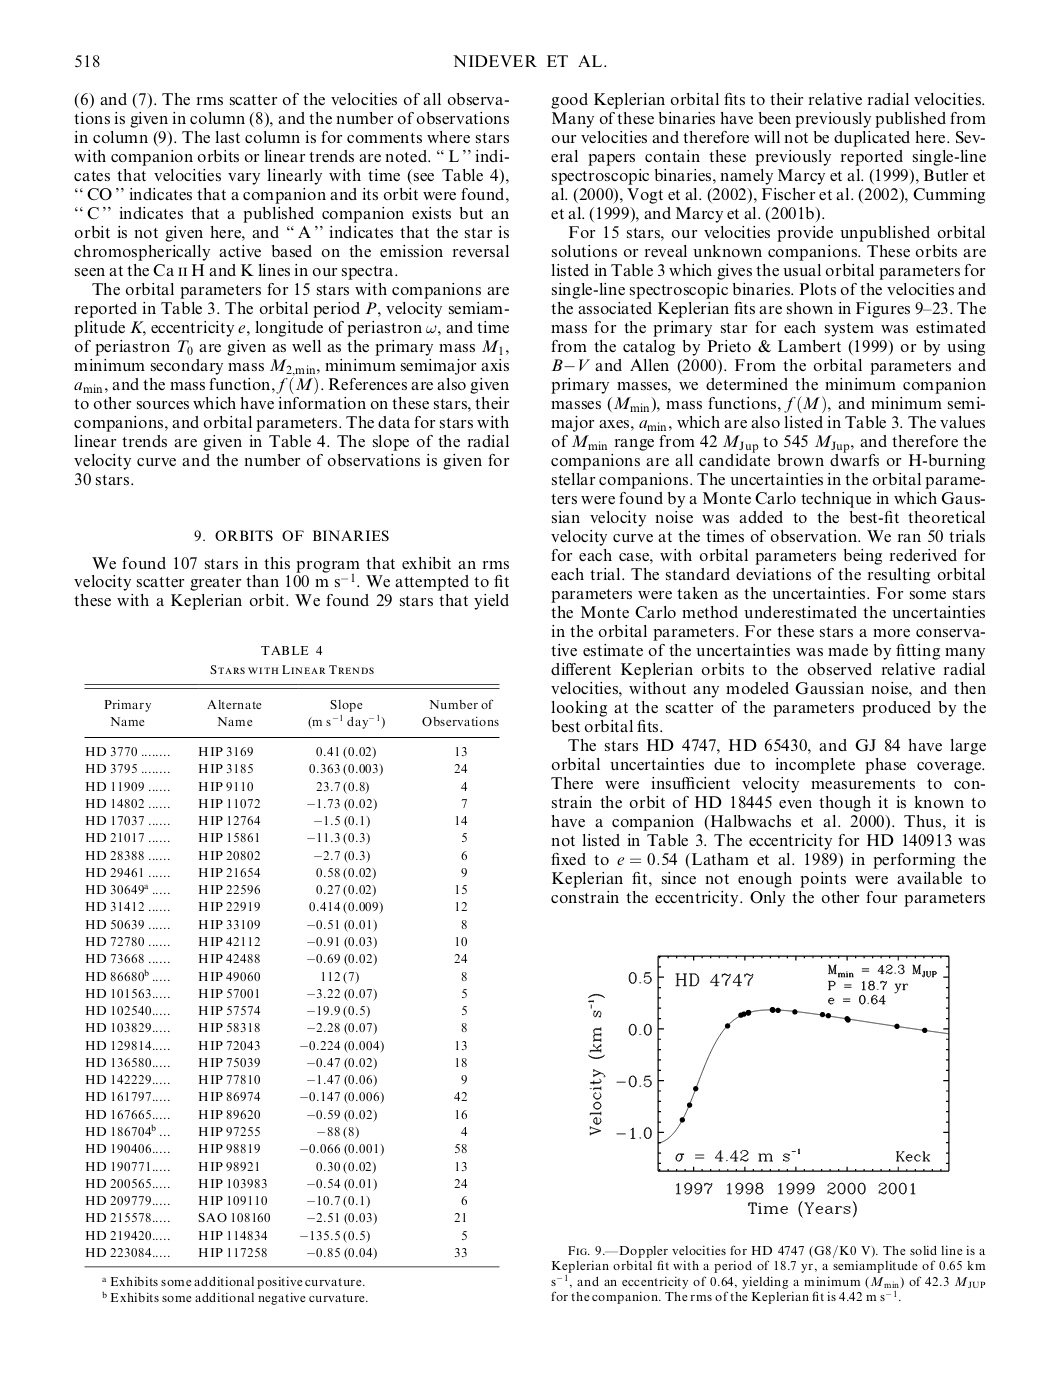Table: (84, 684, 499, 1267)
figure: (588, 955, 950, 1217)
